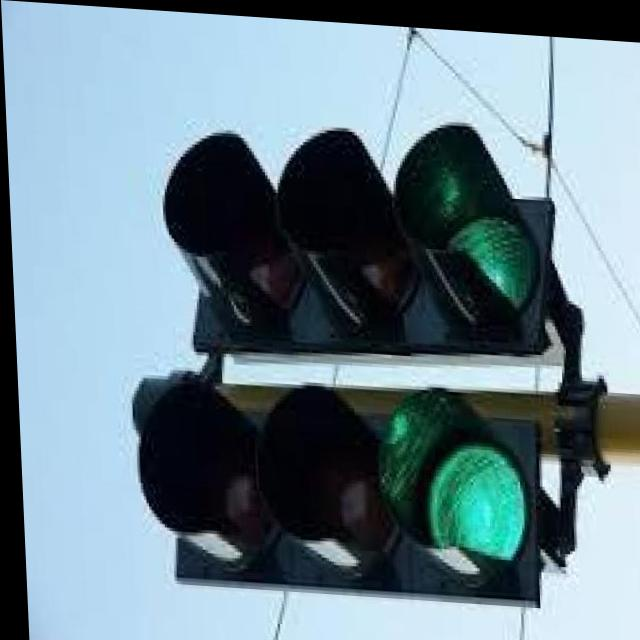green light: (151, 370, 528, 591), (165, 123, 535, 346)
